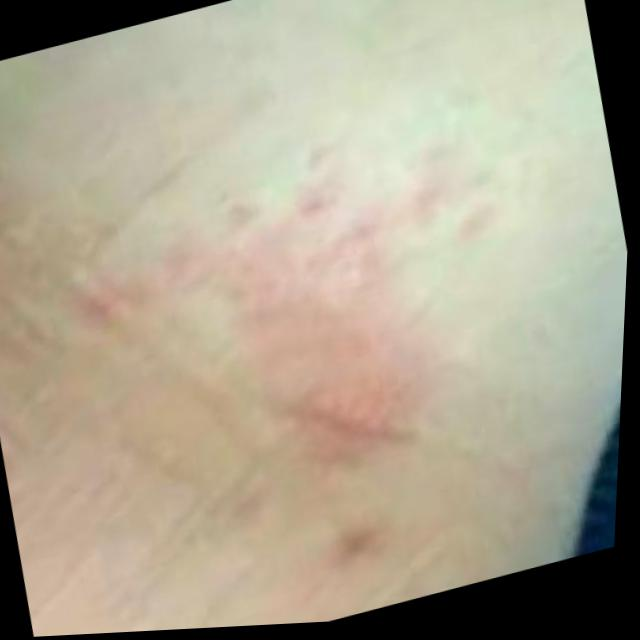Shingles: (57, 126, 553, 548)
